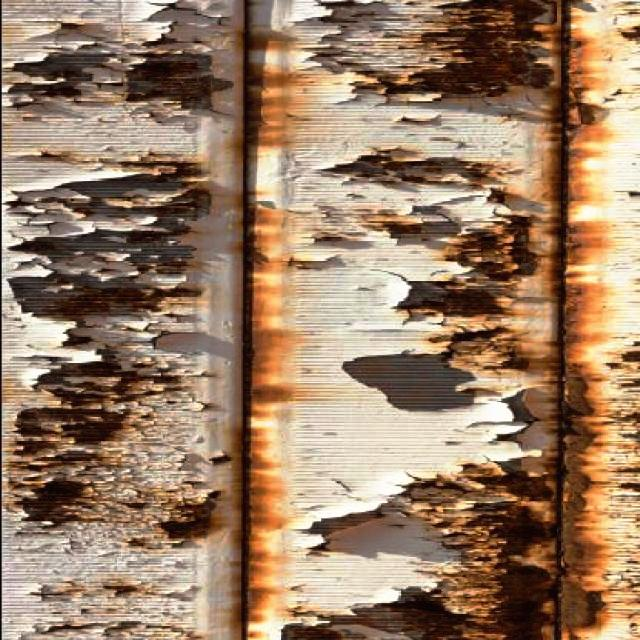Corrosion: (558, 0, 615, 640), (407, 463, 556, 640), (316, 2, 554, 101), (28, 282, 198, 320), (447, 215, 538, 280), (608, 340, 640, 520), (128, 53, 212, 108), (17, 408, 124, 444), (398, 282, 505, 317), (19, 479, 88, 524), (160, 492, 220, 540), (358, 148, 425, 178), (68, 363, 141, 390), (451, 327, 509, 344), (282, 625, 344, 640), (40, 582, 83, 600), (38, 81, 81, 96), (102, 583, 145, 598), (502, 355, 530, 370), (622, 24, 640, 40)
